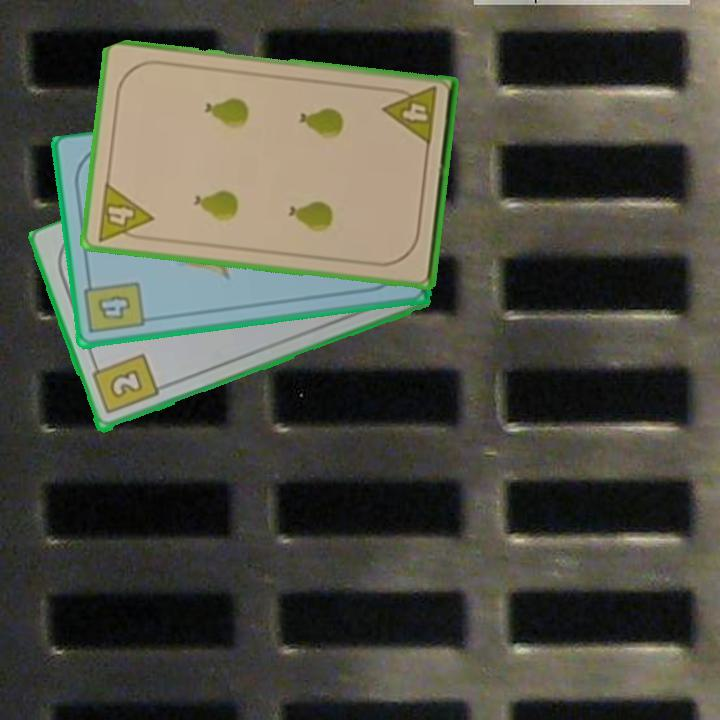2b: (88, 350, 161, 418)
4b: (81, 274, 148, 337)
4p: (94, 179, 156, 244), (380, 83, 440, 149)
